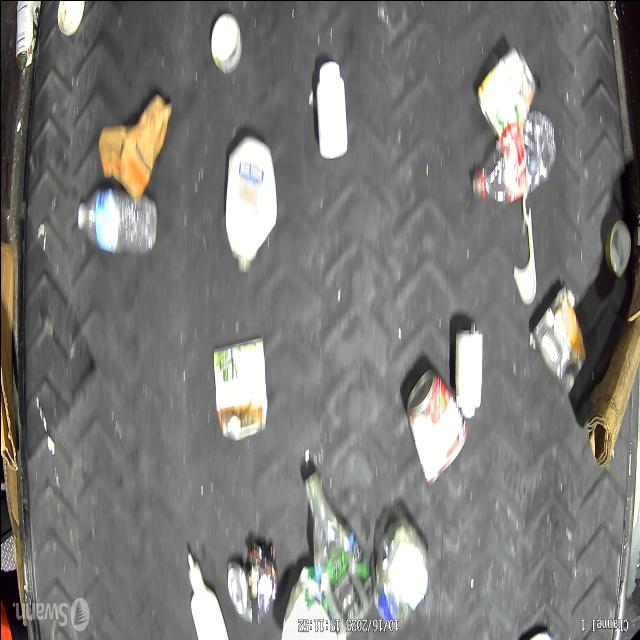can: (404, 366, 468, 484), (530, 280, 586, 394), (211, 334, 269, 442), (474, 46, 536, 142), (226, 536, 277, 626), (208, 11, 242, 73), (602, 218, 631, 280), (14, 0, 36, 73)
plastic_bottle: (300, 470, 375, 634), (469, 109, 557, 210), (73, 186, 157, 256)
